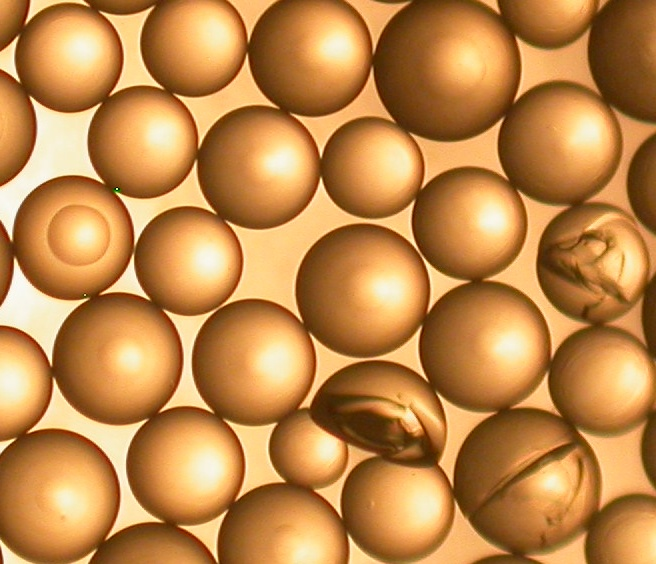resin: (454, 407, 602, 557), (374, 1, 522, 142), (296, 223, 430, 358), (52, 293, 184, 426), (419, 282, 552, 412), (496, 80, 623, 207), (192, 299, 318, 427), (1, 429, 120, 563), (196, 104, 321, 230), (13, 175, 134, 301), (311, 360, 447, 467), (248, 1, 373, 117), (126, 407, 246, 526), (536, 203, 651, 324), (411, 167, 528, 281), (87, 85, 199, 199), (341, 456, 456, 564), (13, 1, 124, 112), (548, 326, 656, 437), (134, 207, 243, 316), (321, 117, 426, 220), (217, 483, 350, 564), (138, 1, 248, 98), (588, 1, 655, 126), (268, 408, 349, 489), (1, 324, 53, 441), (87, 522, 218, 564), (495, 1, 600, 51), (585, 494, 655, 564), (1, 67, 38, 187)
